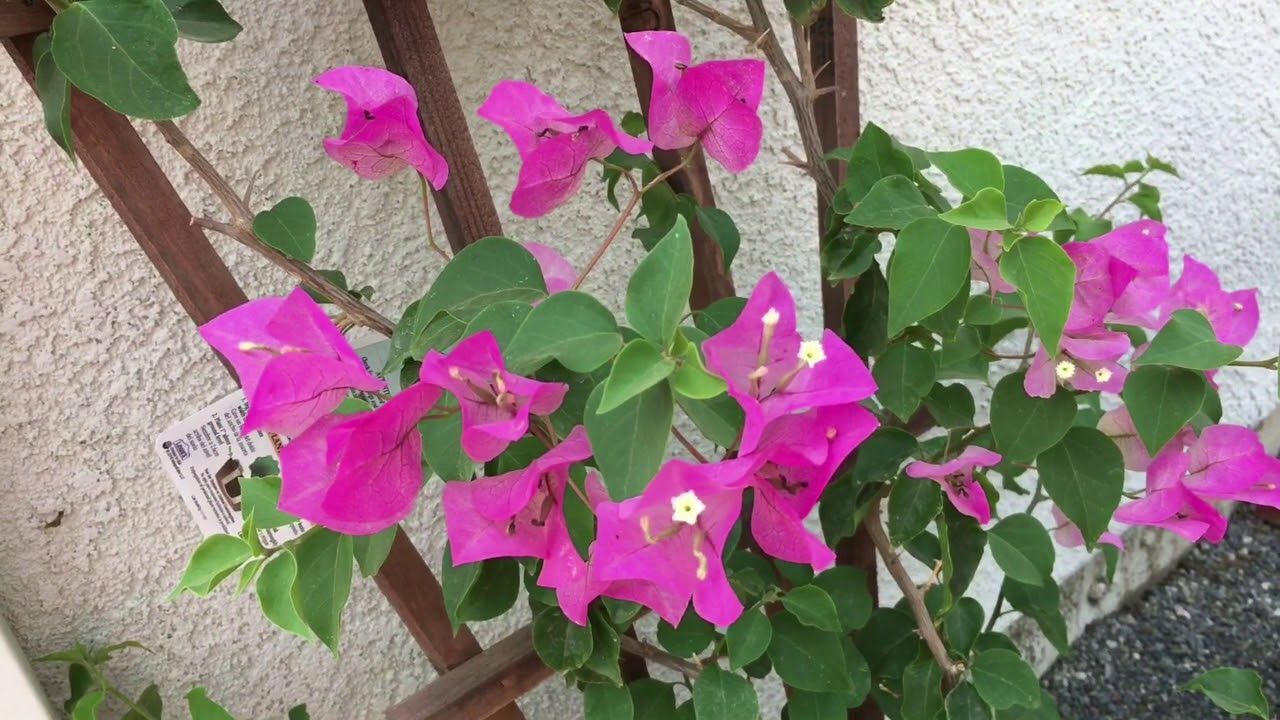bougainvillea: (585, 460, 760, 627), (451, 428, 590, 624), (704, 277, 866, 425), (199, 295, 361, 419), (628, 35, 765, 165), (420, 335, 564, 456), (489, 84, 628, 202), (315, 66, 442, 192), (1028, 251, 1131, 400), (1117, 476, 1230, 543), (912, 443, 998, 520)
